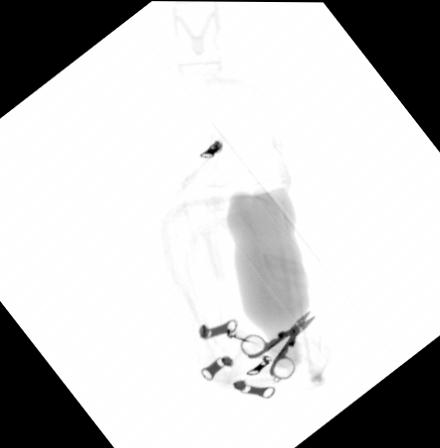Scissors: (239, 309, 315, 378)
